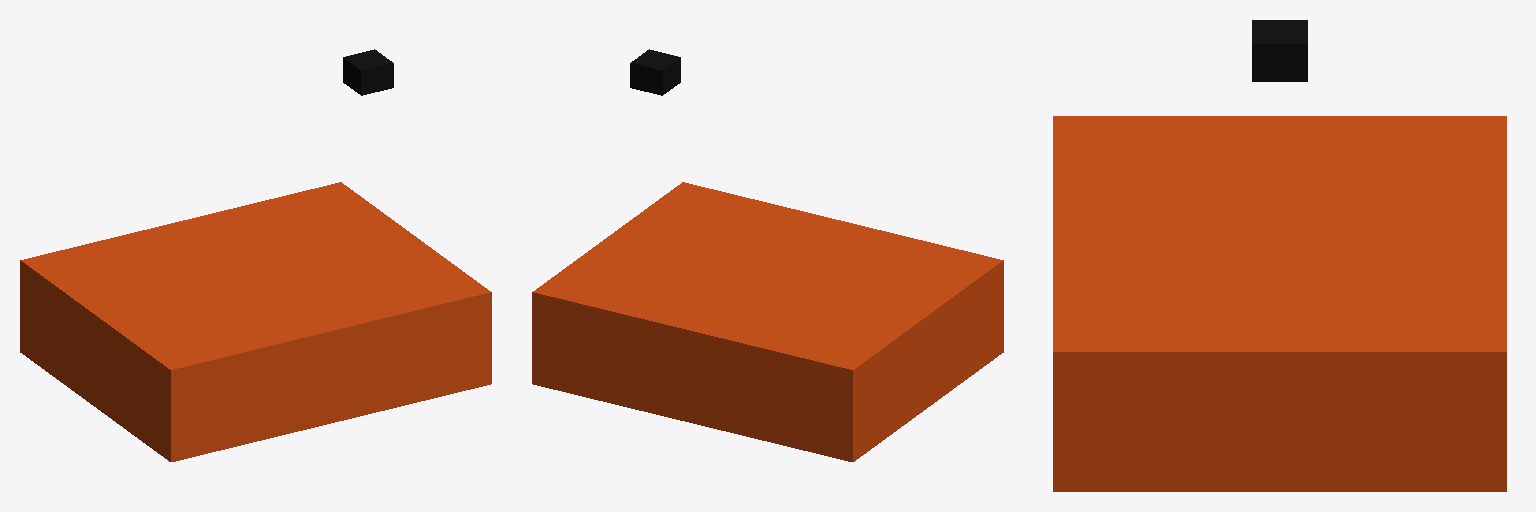
robot.urdf — autonomy_obstacle_bot:
<?xml version="1.0"?>
<robot name="autonomy_obstacle_bot">
  <link name="base_link">
    <visual>
      <origin xyz="0 0 0.15" rpy="0 0 0"/>
      <geometry>
        <box size="0.8 0.65 0.22"/>
      </geometry>
      <material name="bot_body">
        <color rgba="0.85 0.35 0.12 1.0"/>
      </material>
    </visual>
    <collision>
      <origin xyz="0 0 0.15" rpy="0 0 0"/>
      <geometry>
        <box size="0.82 0.67 0.24"/>
      </geometry>
    </collision>
    <inertial>
      <origin xyz="0 0 0.15" rpy="0 0 0"/>
      <mass value="40.0"/>
      <inertia ixx="3.0" ixy="0.0" ixz="0.0" iyy="5.0" iyz="0.0" izz="6.0"/>
    </inertial>
  </link>

  <link name="camera_link">
    <visual>
      <origin xyz="0 0 0" rpy="0 0 0"/>
      <geometry>
        <box size="0.08 0.08 0.06"/>
      </geometry>
      <material name="camera_black">
        <color rgba="0.1 0.1 0.1 1.0"/>
      </material>
    </visual>
    <inertial>
      <origin xyz="0 0 0" rpy="0 0 0"/>
      <mass value="0.2"/>
      <inertia ixx="0.001" ixy="0.0" ixz="0.0" iyy="0.001" iyz="0.0" izz="0.001"/>
    </inertial>
  </link>

  <joint name="camera_joint" type="fixed">
    <parent link="base_link"/>
    <child link="camera_link"/>
    <origin xyz="0.28 0 0.68" rpy="0 0 0"/>
  </joint>

  <gazebo>
    <plugin filename="libgazebo_ros_planar_move.so" name="autonomy_bot_planar_move">
      <ros>
        <namespace>/drives</namespace>
        <remapping>cmd_vel:=cmd_vel</remapping>
        <remapping>odom:=odom</remapping>
      </ros>
      <update_rate>100</update_rate>
      <publish_rate>30</publish_rate>
      <publish_odom>true</publish_odom>
      <publish_odom_tf>false</publish_odom_tf>
      <odometry_frame>odom</odometry_frame>
      <robot_base_frame>base_link</robot_base_frame>
    </plugin>
  </gazebo>

  <gazebo reference="camera_link">
    <sensor name="front_rgb_camera" type="camera">
      <always_on>1</always_on>
      <update_rate>15.0</update_rate>
      <visualize>true</visualize>
      <pose>0 0 0 0 0 0</pose>
      <camera>
        <horizontal_fov>1.047198</horizontal_fov>
        <image>
          <width>640</width>
          <height>480</height>
          <format>R8G8B8</format>
        </image>
        <clip>
          <near>0.1</near>
          <far>8.0</far>
        </clip>
      </camera>
      <plugin name="front_rgb_camera_controller" filename="libgazebo_ros_camera.so">
        <camera_name>camera</camera_name>
        <frame_name>camera_link</frame_name>
        <image_topic_name>image_raw</image_topic_name>
        <camera_info_topic_name>camera_info</camera_info_topic_name>
      </plugin>
      <plugin name="front_depth_points_controller" filename="libgazebo_ros_openni_kinect.so">
        <cameraName>camera</cameraName>
        <frameName>camera_link</frameName>
        <pointCloudTopicName>points</pointCloudTopicName>
        <depthImageTopicName>depth/image_raw</depthImageTopicName>
        <depthImageCameraInfoTopicName>depth/camera_info</depthImageCameraInfoTopicName>
        <imageTopicName>image_raw</imageTopicName>
        <cameraInfoTopicName>camera_info</cameraInfoTopicName>
        <baseline>0.0</baseline>
        <hackBaseline>0.0</hackBaseline>
        <minDepth>0.1</minDepth>
        <maxDepth>8.0</maxDepth>
      </plugin>
    </sensor>
  </gazebo>
</robot>

--- Render facts (derived) ---
3 views of the same robot in one strip: view 1: azimuth 30°, elevation 25°; view 2: azimuth 150°, elevation 25°; view 3: azimuth 270°, elevation 25° (orthographic).
Robot: autonomy_obstacle_bot — 2 links, 1 joints (1 fixed); root link base_link; default pose: every joint at zero.
Visible links, largest first — view 1: base_link, camera_link; view 2: base_link, camera_link; view 3: base_link, camera_link.
Boxes of the visible links, x1=… form: base_link: x1=20, y1=182, x2=491, y2=461; camera_link: x1=343, y1=49, x2=393, y2=95; base_link: x1=532, y1=182, x2=1003, y2=461; camera_link: x1=630, y1=49, x2=680, y2=95; base_link: x1=1053, y1=116, x2=1506, y2=491; camera_link: x1=1252, y1=20, x2=1307, y2=81.
Bounding box of the posed robot: 0.8 × 0.65 × 0.67 m (x, y, z).
Geometry: primitives only (box / cylinder / sphere), no mesh files.
